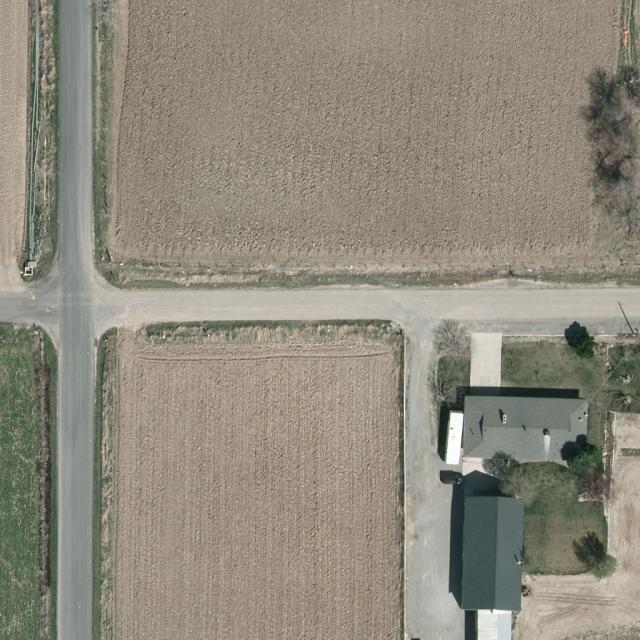vehicle: (442, 474, 464, 486)
